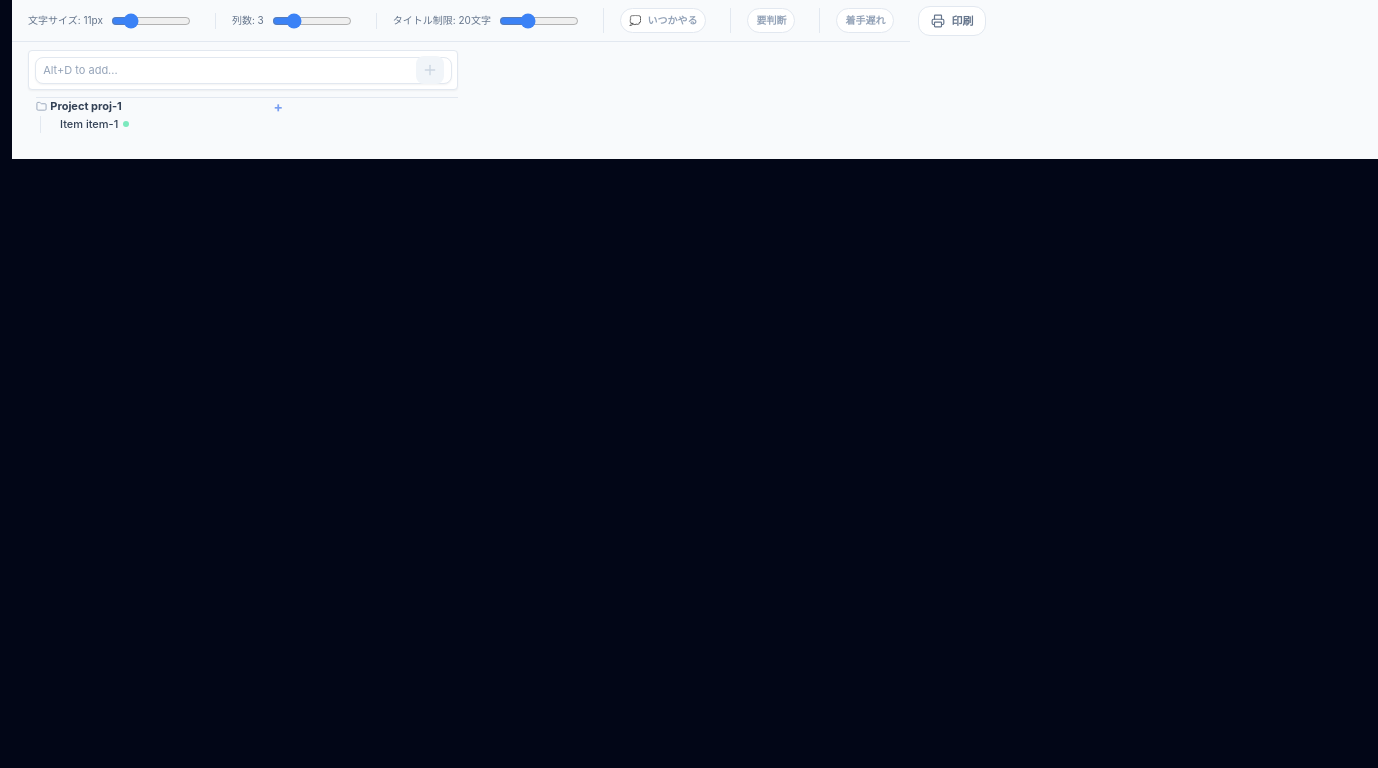
it: R-094-B: 全体一覧の連続インライン入力チェーンUX › 連鎖で出現した空のインライン行が未入力のままフォーカスを失うと消える
Right-click the text "Item item-1": x=89, y=124 [60,118,118,131]
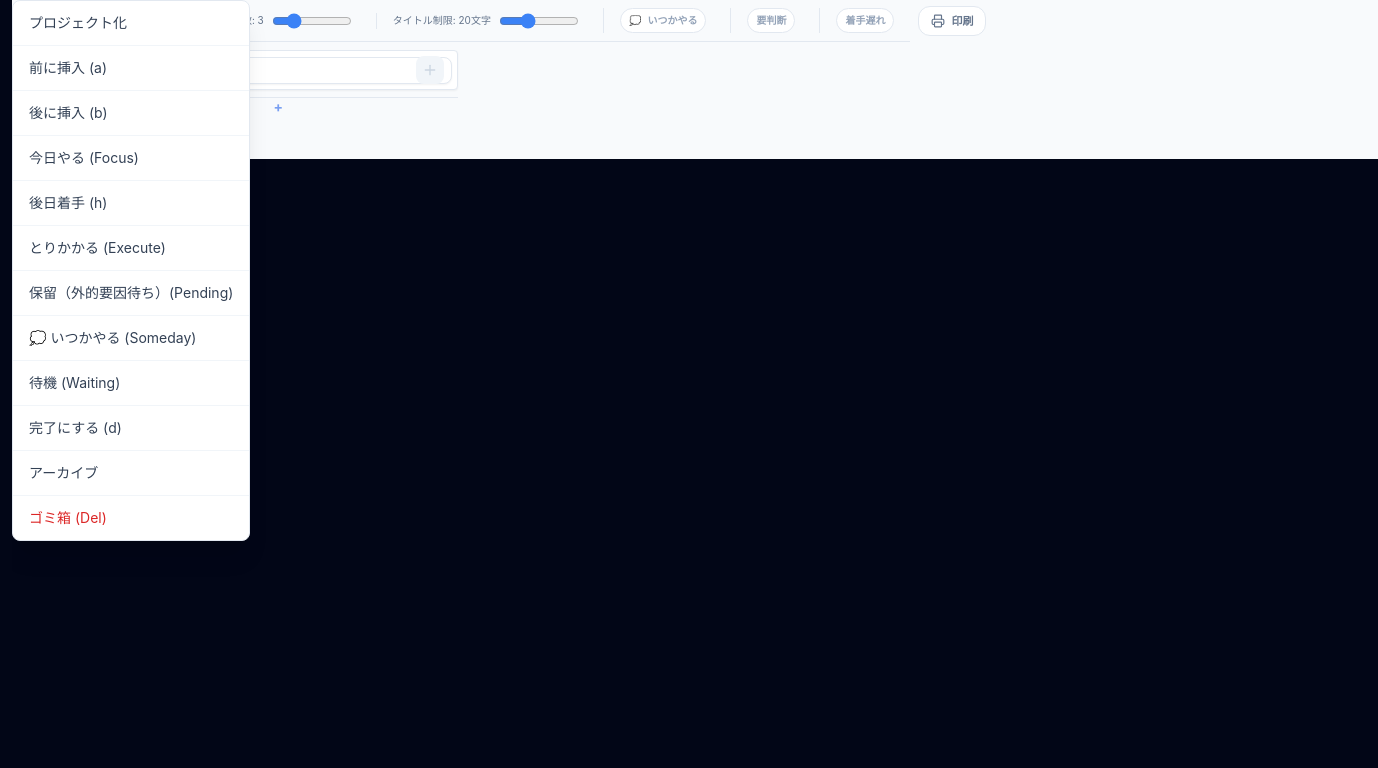
Click the button "後に挿入 (b)": x=131, y=113 [13,95,249,131]
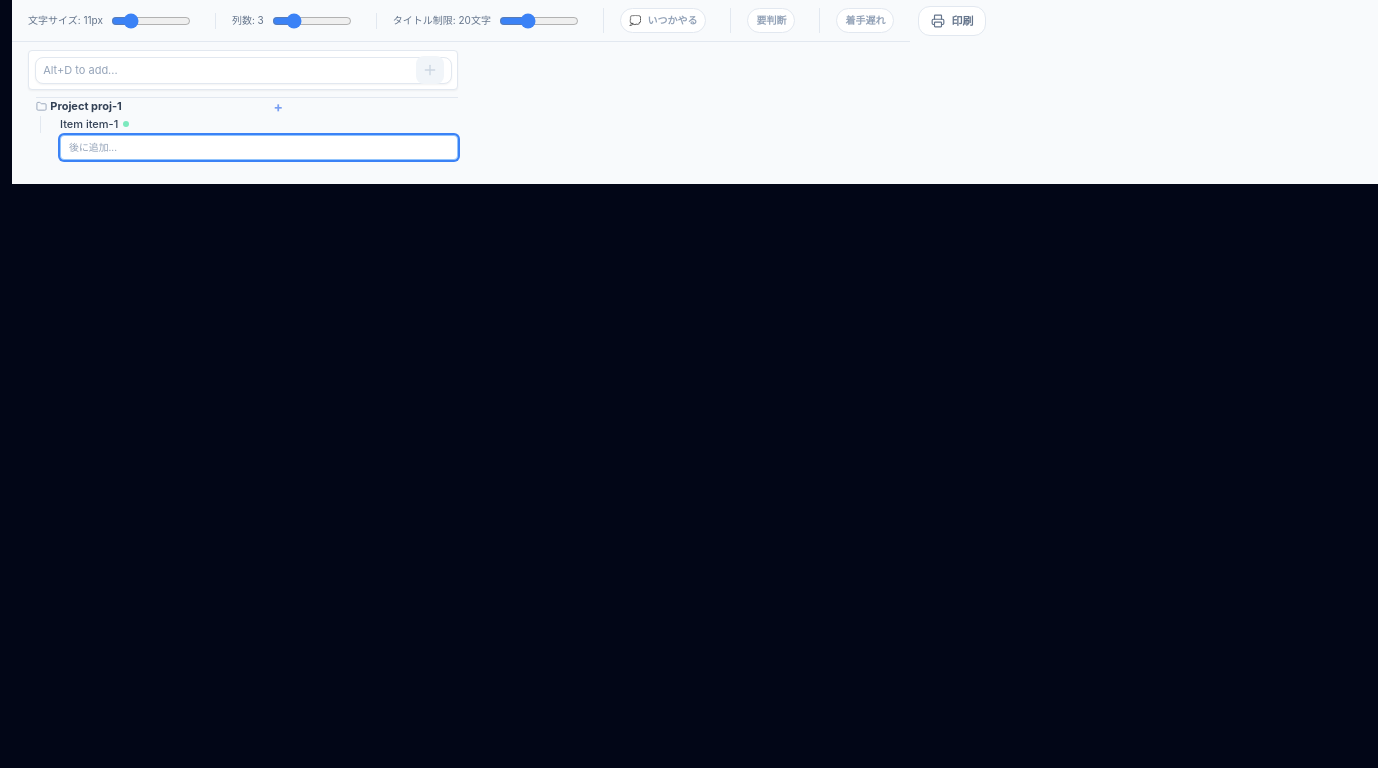
In the field with placeholder "後に追加...": x=259, y=147 [60,135,458,160], type "新タスク"
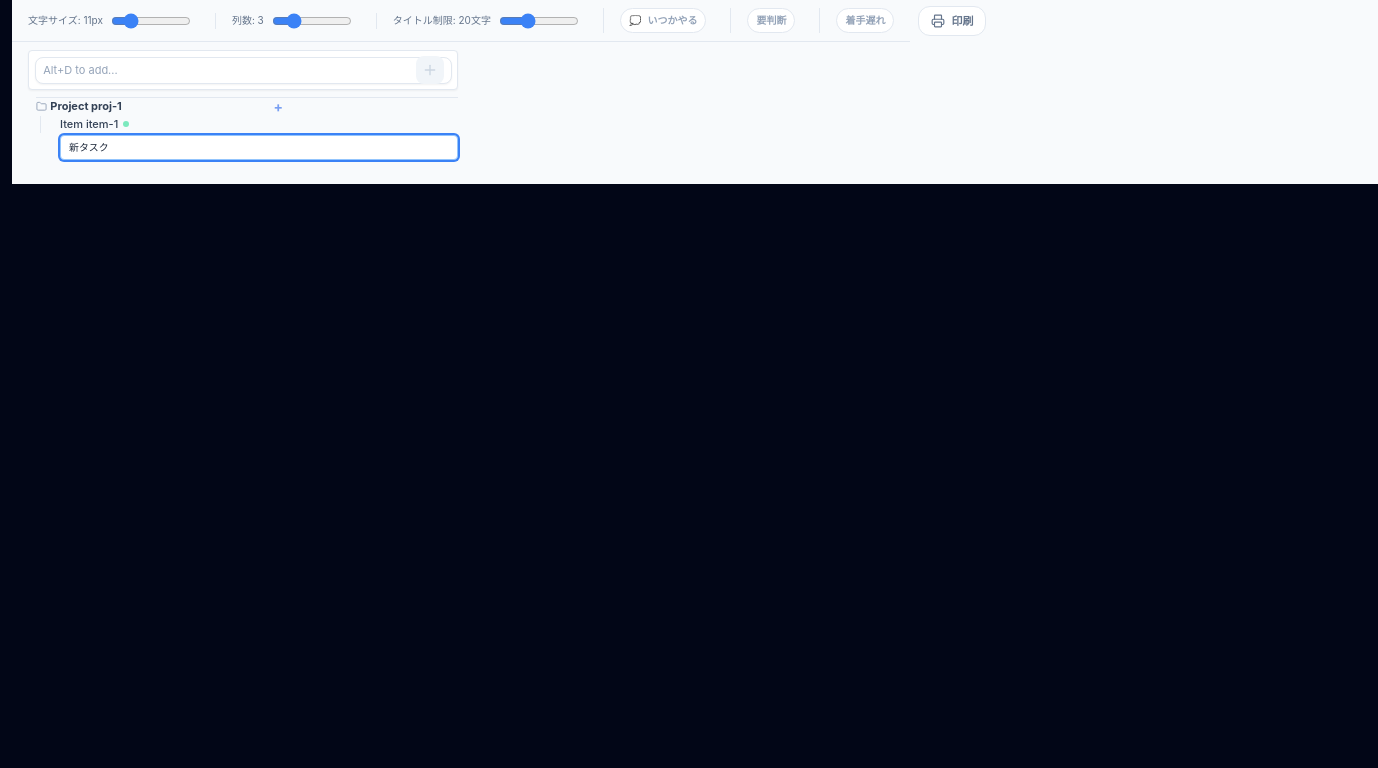
Press Enter in the field with placeholder "後に追加...", box [60,135,458,160]
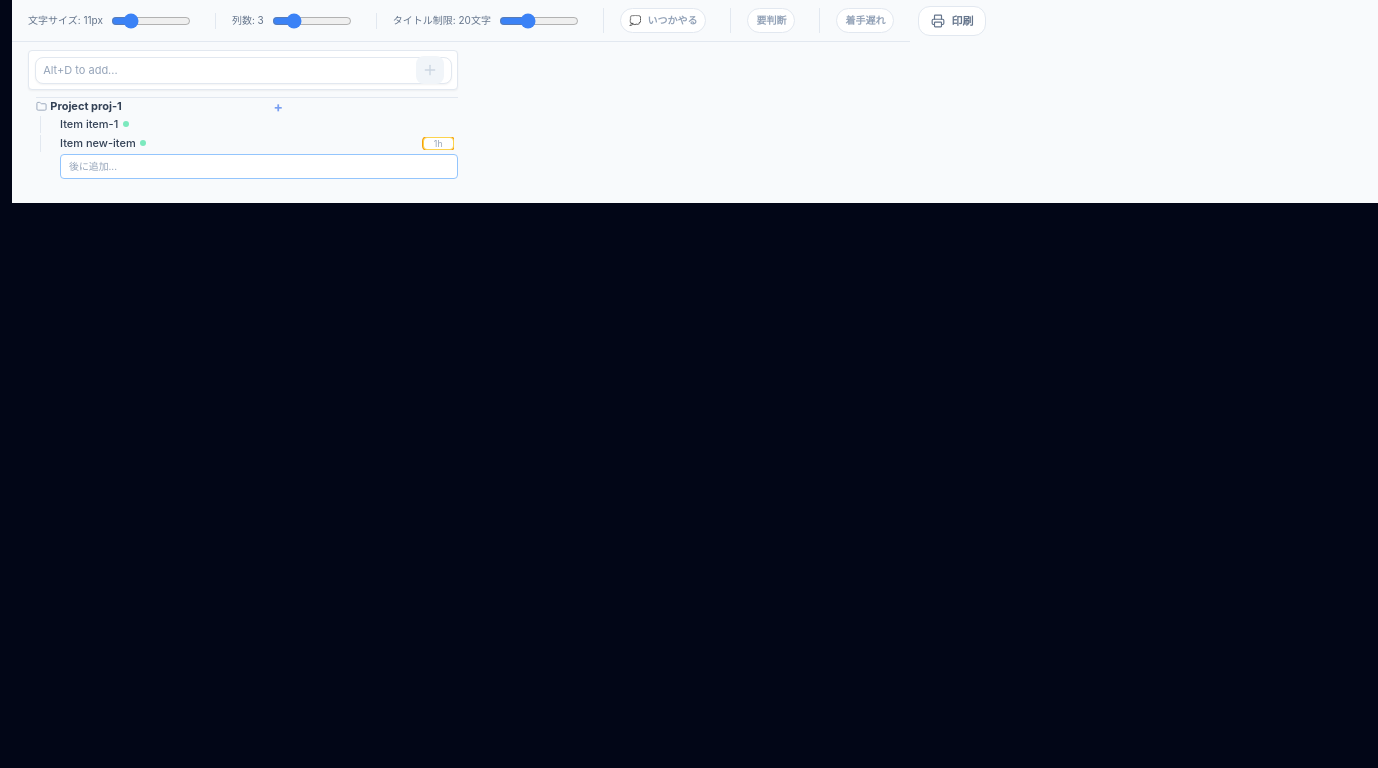
Press Enter in the field with test id "estimate-input-new-item", box [423,137,454,150]
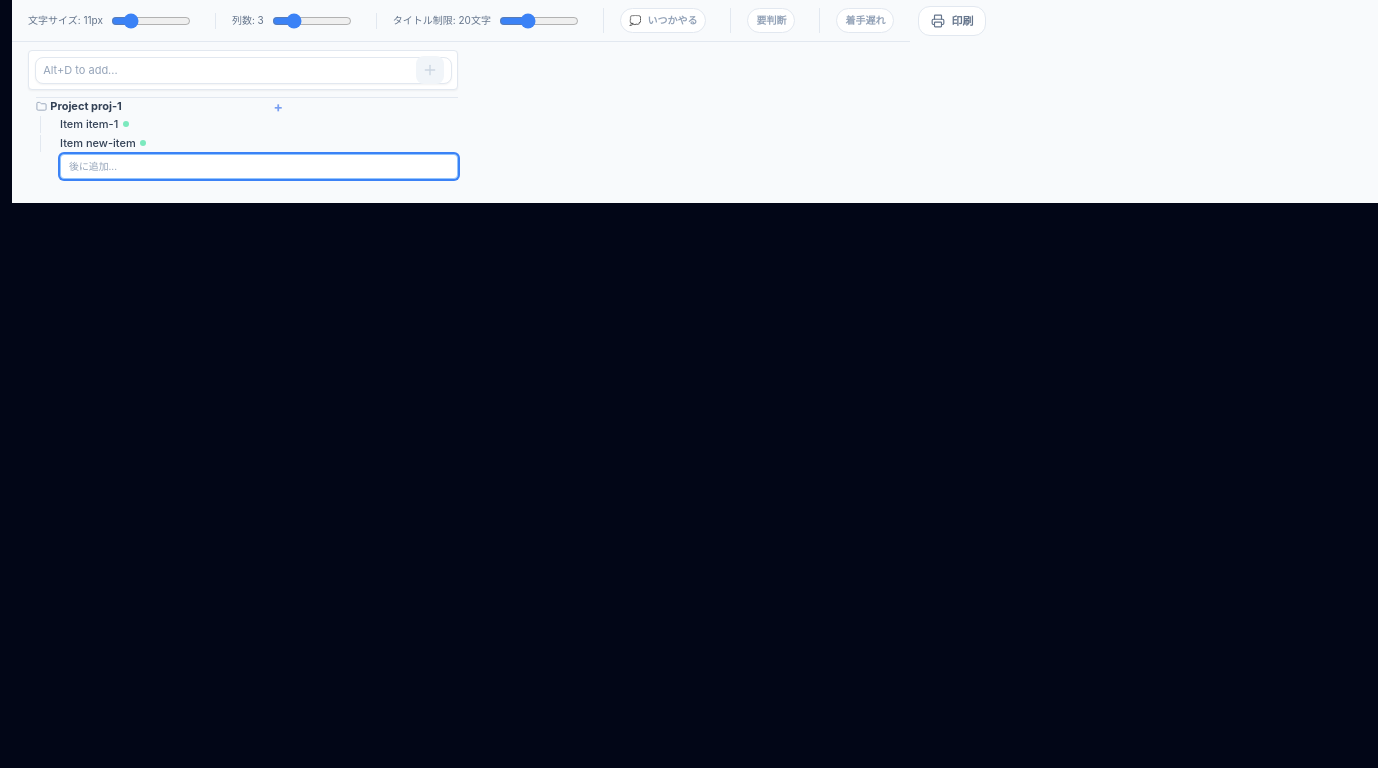
Leave the field with placeholder "後に追加...", box [60,154,458,179]
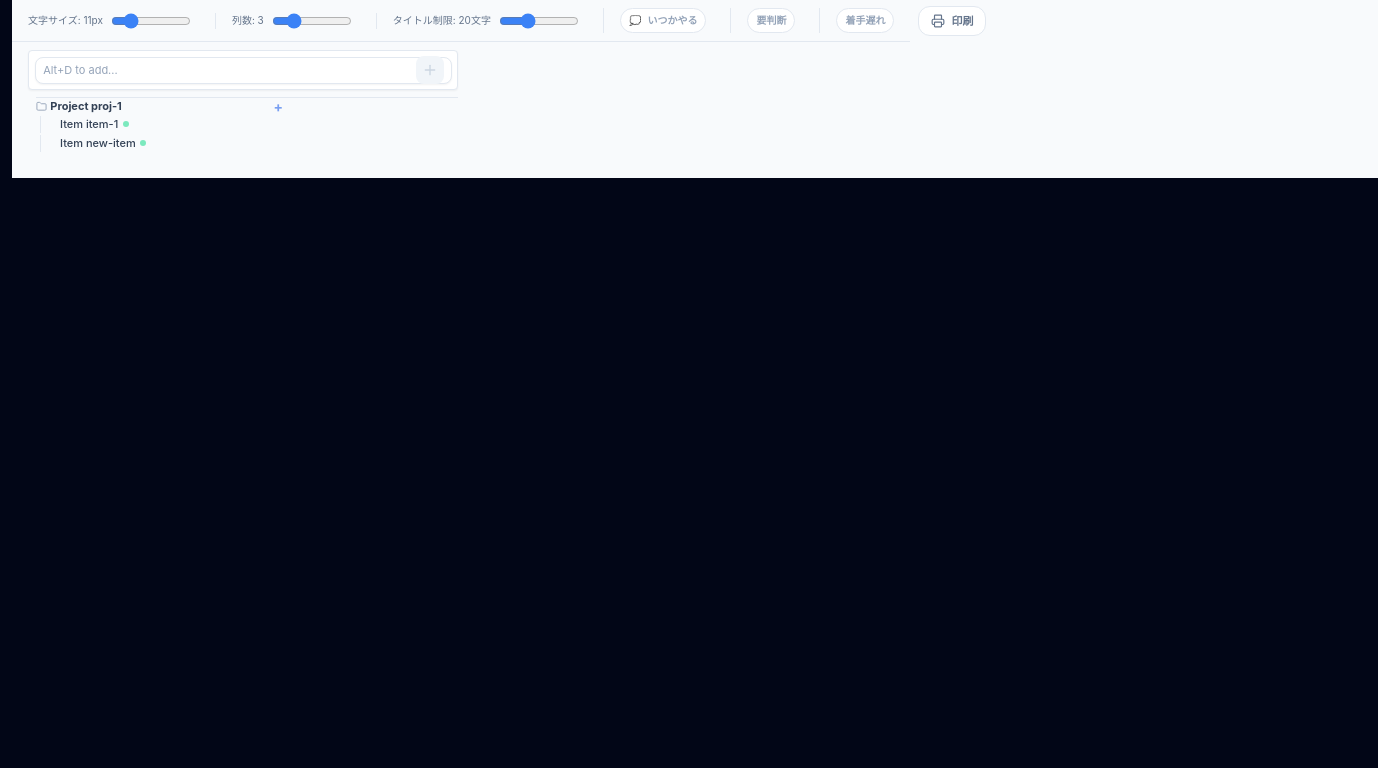
Result: no fields with placeholder "後に追加..." are shown
